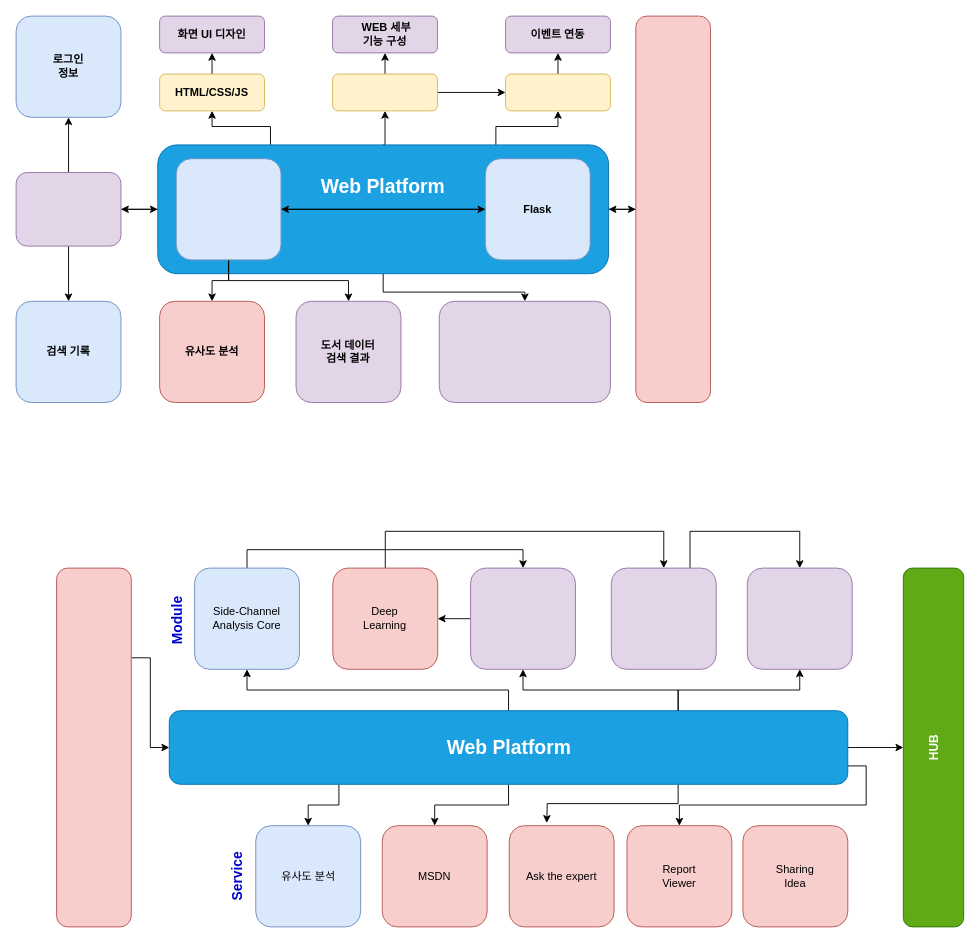
Image size: 980x943. Some labels were removed from this diagram. The centre of each missing label's shape, as x and y in pixels:
Ajax 사용: the point at 557,92
DATA Analysis: the point at 522,618
Jquery/DB: the point at 384,92
KOSYAS PLATFORM: the point at 93,747
MySQL WorkBench: the point at 68,209
Output: the point at 799,618
Python: the point at 228,209
Result Analysis: the point at 663,618
결과 & 챠트: the point at 524,351
결과 화면 구성: the point at 673,208
